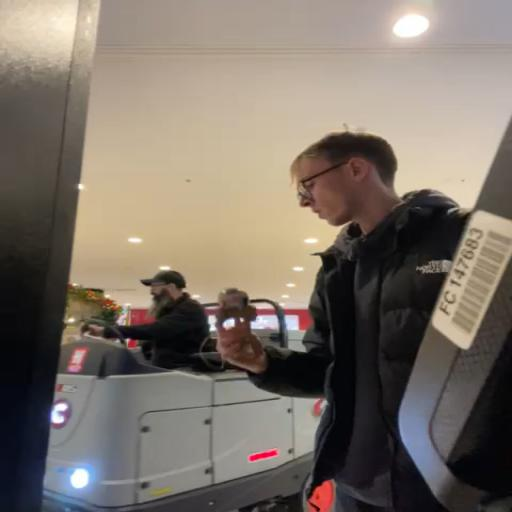kendama_ball: (218, 287, 248, 308)
